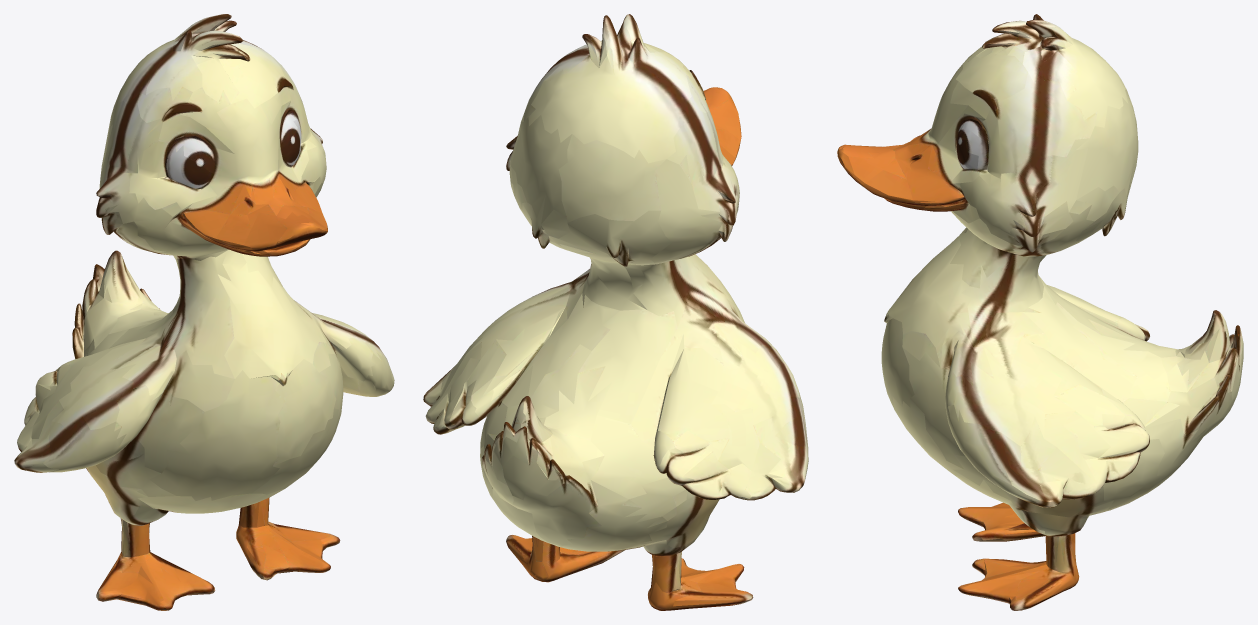
File: pet_puddles.glb
The picture shows the model from 3 angles, left to right: view 1: azimuth 30°, elevation 25°; view 2: azimuth 150°, elevation 25°; view 3: azimuth 270°, elevation 25°; orthographic projection. The views are drawn at different scales.
Bounding box in the file's own units: 1.34 × 1.9 × 1.29.
1 material, 1 textured.
